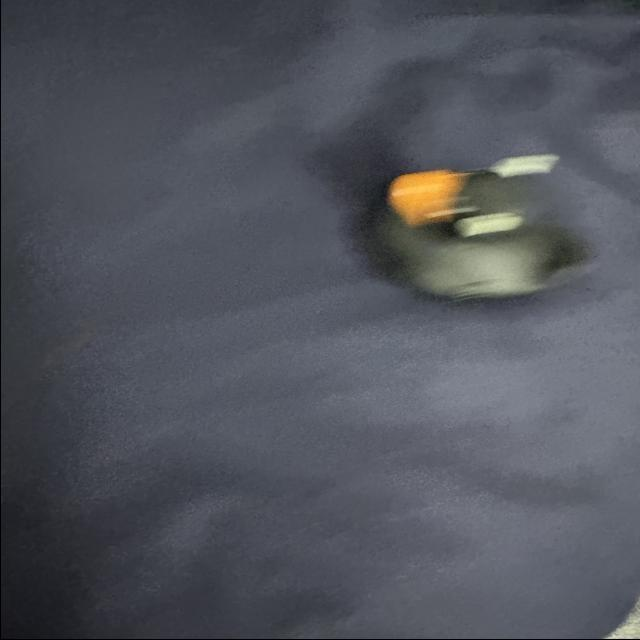rubber-duck: (376, 153, 587, 298)
